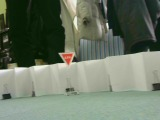stop: (57, 52, 76, 68)
